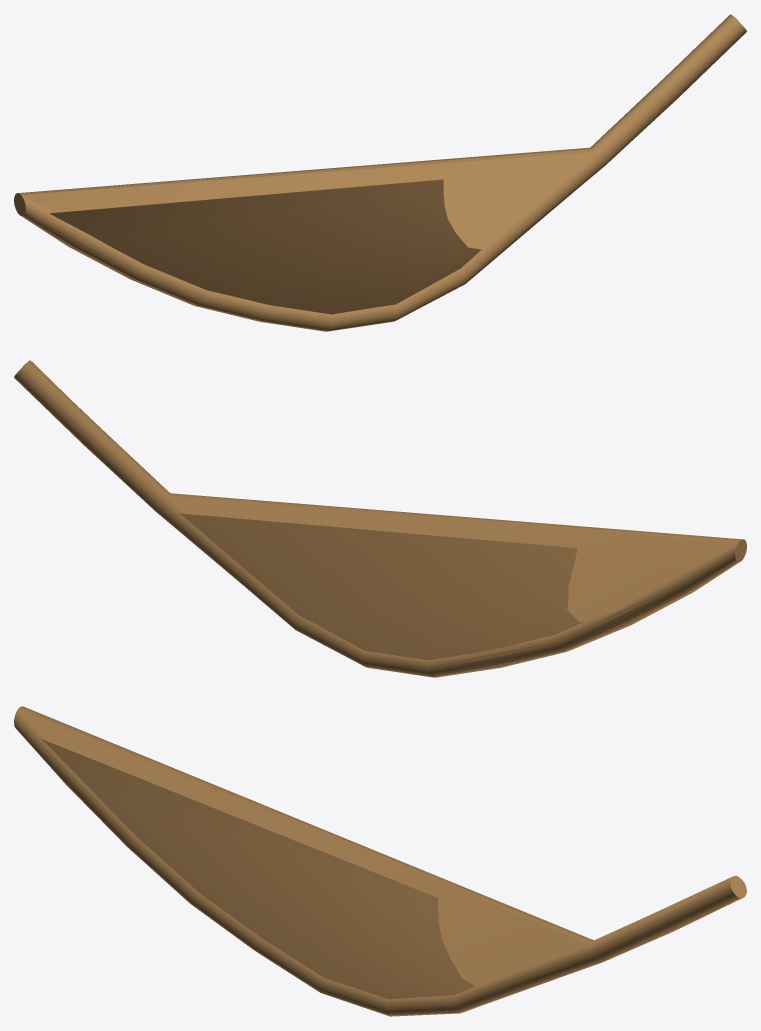
The model's file is SM_Baggage_Rope_01.fbx.
3 renders of one model, top to bottom at view 1: azimuth 30°, elevation 25°; view 2: azimuth 150°, elevation 25°; view 3: azimuth 330°, elevation 25°, orthographic.
Visible parts, largest first — view 1: pCylinder27; view 2: pCylinder27; view 3: pCylinder27.
Part boxes in pixels (x1,y1,x2,y2): pCylinder27: (14, 14, 746, 331); pCylinder27: (14, 360, 746, 677); pCylinder27: (14, 706, 746, 1016).
Bounding box in the file's own units: 0.9672 × 0.2829 × 0.0274.
